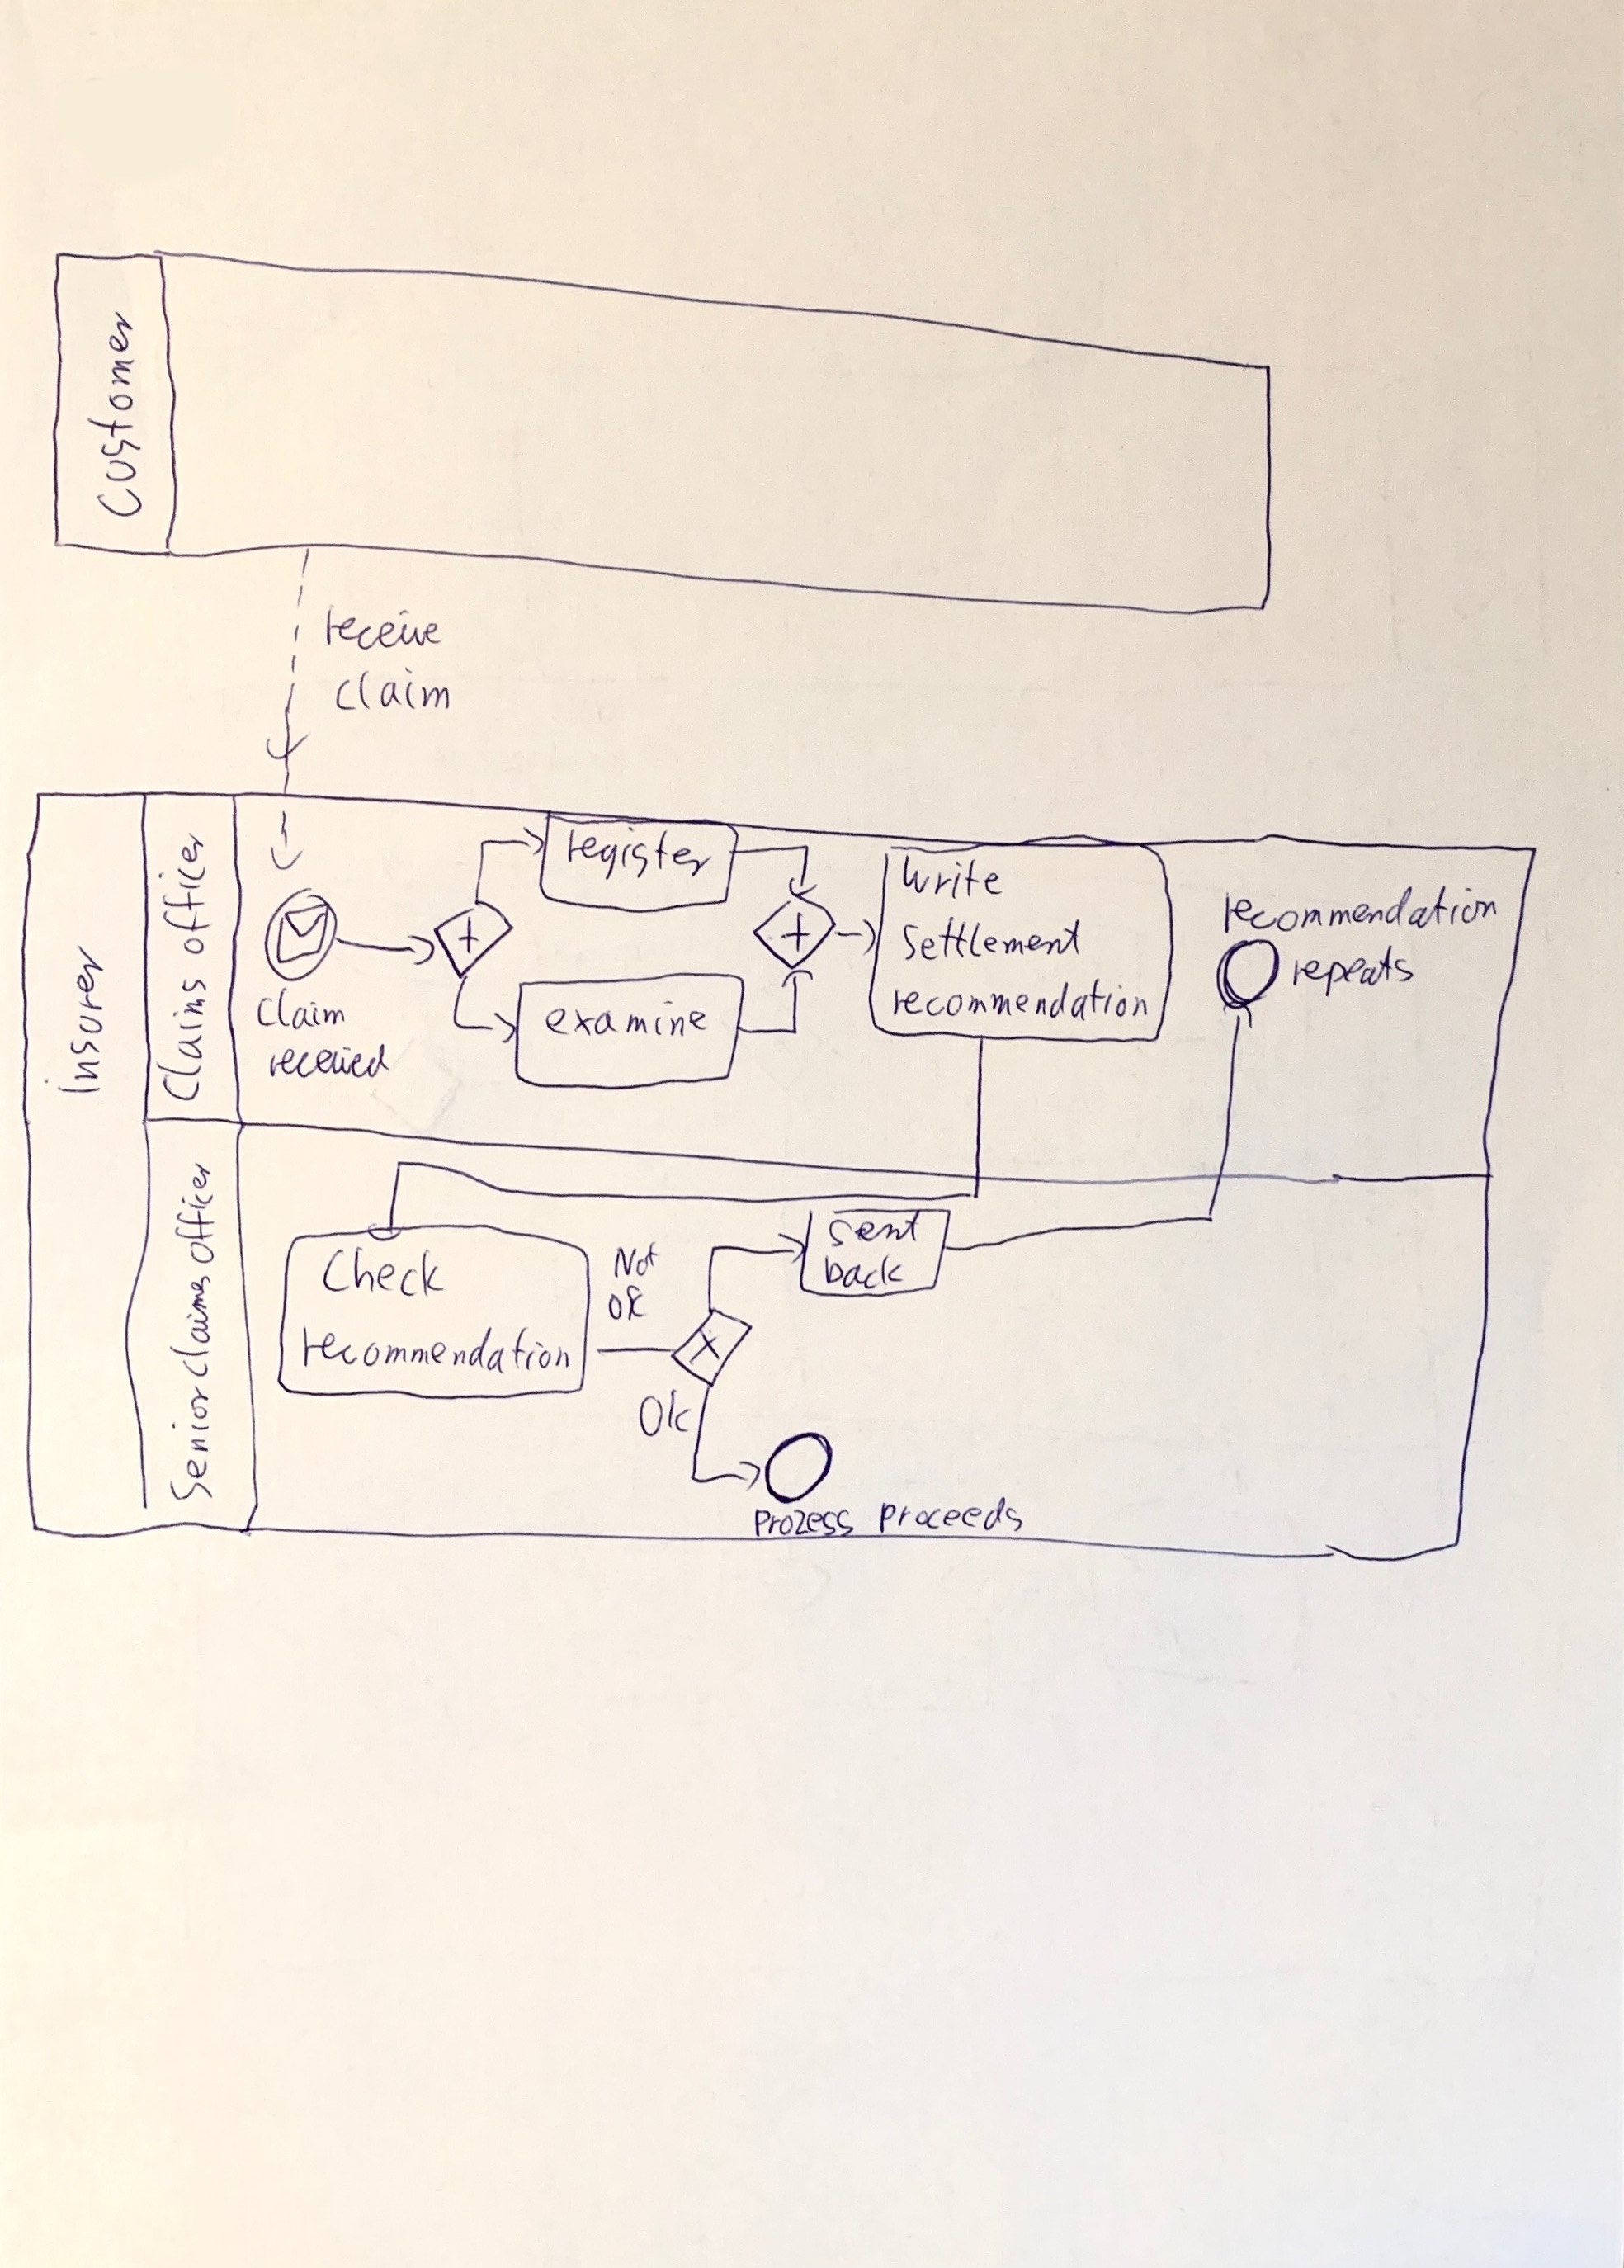Check: (313, 1239, 453, 1306)
Claim: (251, 983, 352, 1036)
Claims: (149, 972, 216, 1111)
Not: (608, 1238, 663, 1285)
Ok: (631, 1384, 698, 1443)
Prozess: (747, 1501, 859, 1544)
Senior: (162, 1378, 223, 1510)
back: (821, 1250, 910, 1294)
claim: (327, 661, 459, 719)
claims: (162, 1271, 218, 1384)
customer: (77, 302, 151, 526)
examine: (538, 993, 717, 1044)
insurer: (35, 939, 112, 1101)
officer: (151, 823, 218, 962), (170, 1157, 220, 1269)
ok: (601, 1282, 652, 1329)
proceeds: (874, 1489, 1028, 1538)
receive: (316, 598, 448, 656)
received: (264, 1039, 395, 1087)
recommendation: (1214, 877, 1504, 941), (297, 1319, 576, 1377), (886, 972, 1155, 1030)
register: (557, 821, 719, 888)
repeats: (1287, 939, 1420, 1004)
sent: (823, 1204, 930, 1255)
settlement: (893, 909, 1090, 970)
write: (895, 847, 1011, 905)
